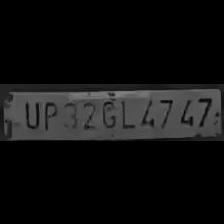2: (78, 96, 96, 130)
3: (60, 96, 78, 130)
4: (136, 96, 156, 128), (175, 95, 195, 127)
7: (194, 93, 212, 126), (155, 96, 173, 128)
G: (98, 96, 118, 128)
L: (116, 96, 134, 128)
P: (40, 98, 58, 130)
U: (20, 97, 40, 128)
